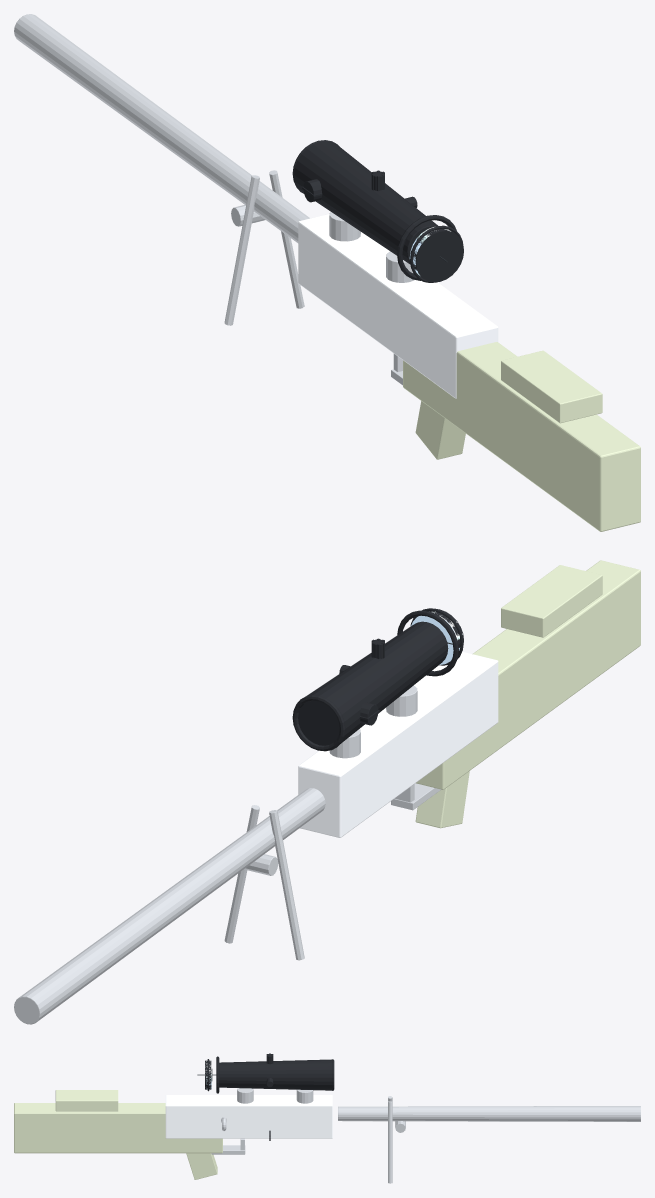
3 views of the same model, one above another, from view 1: azimuth 30°, elevation 25°; view 2: azimuth 150°, elevation 25°; view 3: azimuth 270°, elevation 25° (orthographic). The views are drawn at different scales.
Parts seen in each view (by area): view 1: Stock, Receiver, Barrel, ScopeTubeBody, CheekRest, ScopeLensBlack, Grip, BipodLegL, ScopeMounts, BipodLegR; view 2: Receiver, Stock, Barrel, ScopeTubeBody, CheekRest, Grip, BipodLegL, ScopeMounts, BipodLegR; view 3: Stock, Receiver, Barrel, ScopeTubeBody, CheekRest, Grip, ScopeMounts, BipodLegR, TriggerGuardTop.
Boxes of the visible parts, x1,y1,x2,y2 form: Stock: (403,342,640,531); Receiver: (298,214,498,398); Barrel: (14,14,309,243); ScopeTubeBody: (292,140,456,280); CheekRest: (501,350,602,423); ScopeLensBlack: (411,228,463,282); Grip: (415,401,465,459); BipodLegL: (224,175,259,325); ScopeMounts: (329,212,414,282); BipodLegR: (269,170,304,308); Receiver: (298,651,498,837); Stock: (416,560,640,789); Barrel: (14,788,325,1024); ScopeTubeBody: (292,610,458,751); CheekRest: (501,565,602,637); Grip: (415,771,469,828); BipodLegL: (269,810,304,960); ScopeMounts: (329,685,417,758); BipodLegR: (224,805,259,943); Stock: (14,1103,222,1153); Receiver: (165,1095,332,1138); Barrel: (338,1106,640,1121); ScopeTubeBody: (216,1053,334,1140); CheekRest: (55,1090,118,1111); Grip: (186,1153,217,1179); ScopeMounts: (237,1088,313,1103); BipodLegR: (388,1101,392,1183); TriggerGuardTop: (211,1145,245,1154).
Bounding box in the file's own units: 0.0989 × 0.2577 × 1.2.
